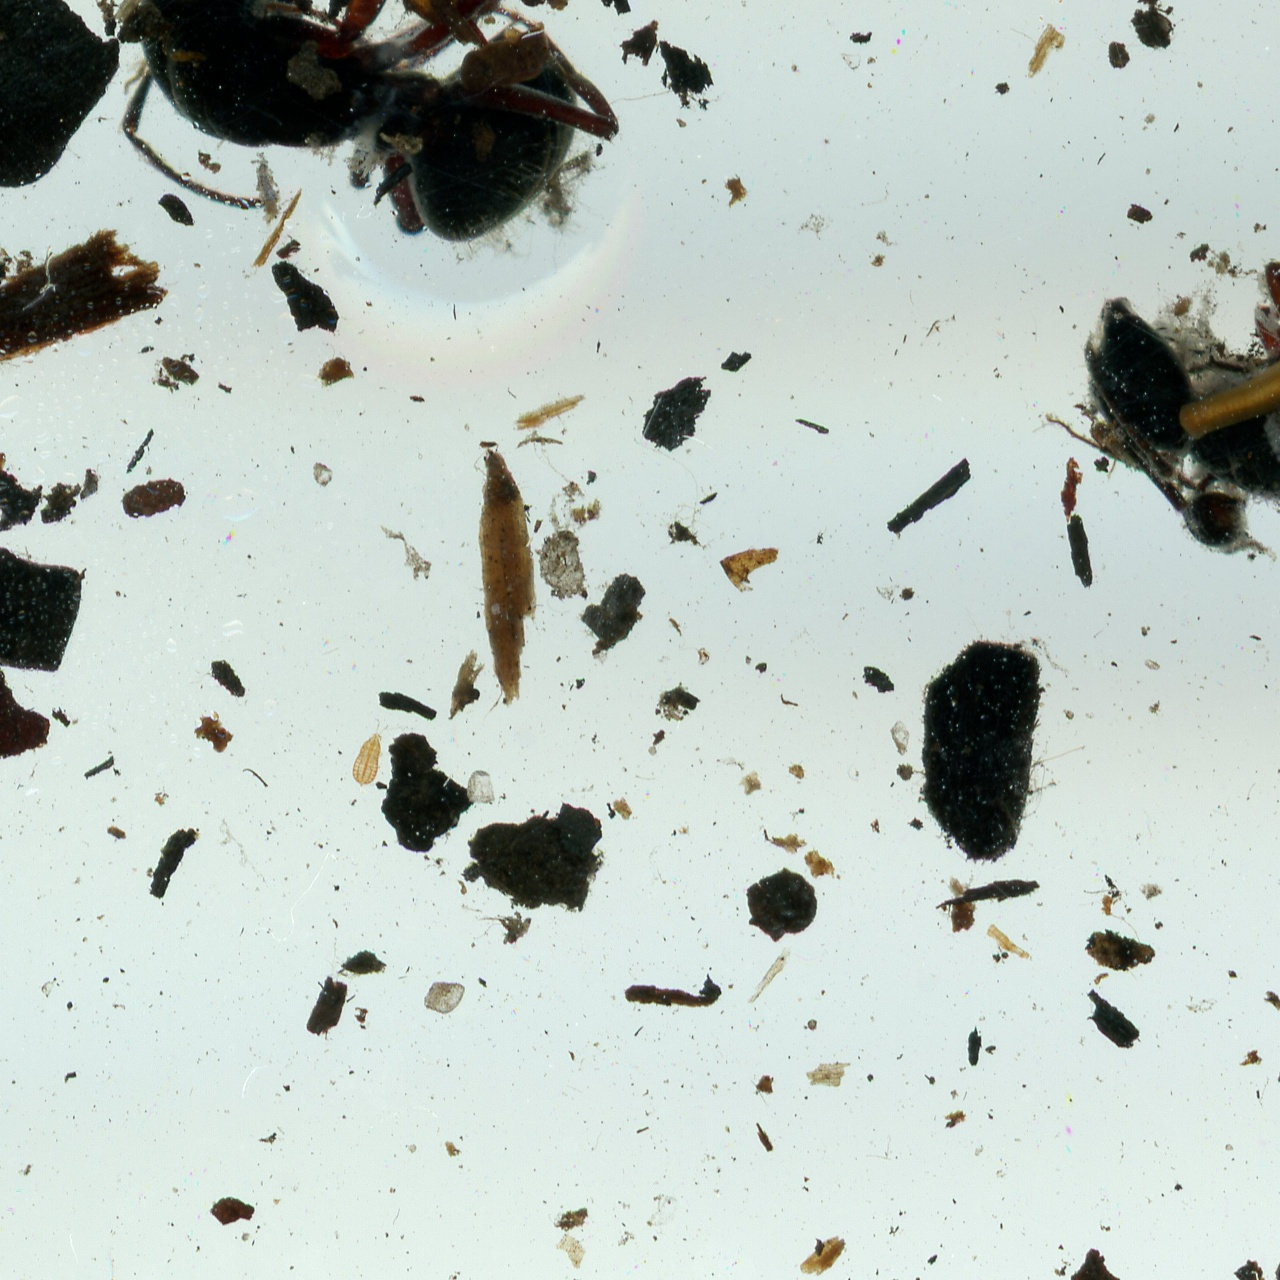arthropod: (75, 0, 629, 250), (1032, 203, 1280, 654), (250, 149, 297, 225), (347, 715, 394, 790)
